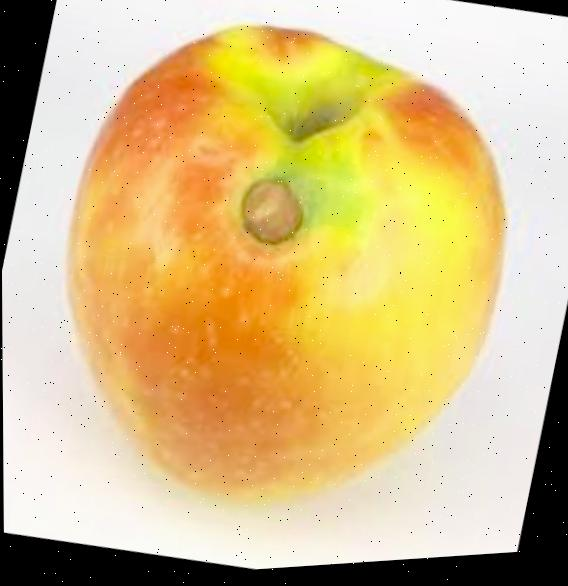SCAB: (14, 0, 539, 529)
